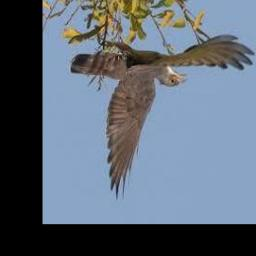Cuckoo: (70, 37, 254, 202)
